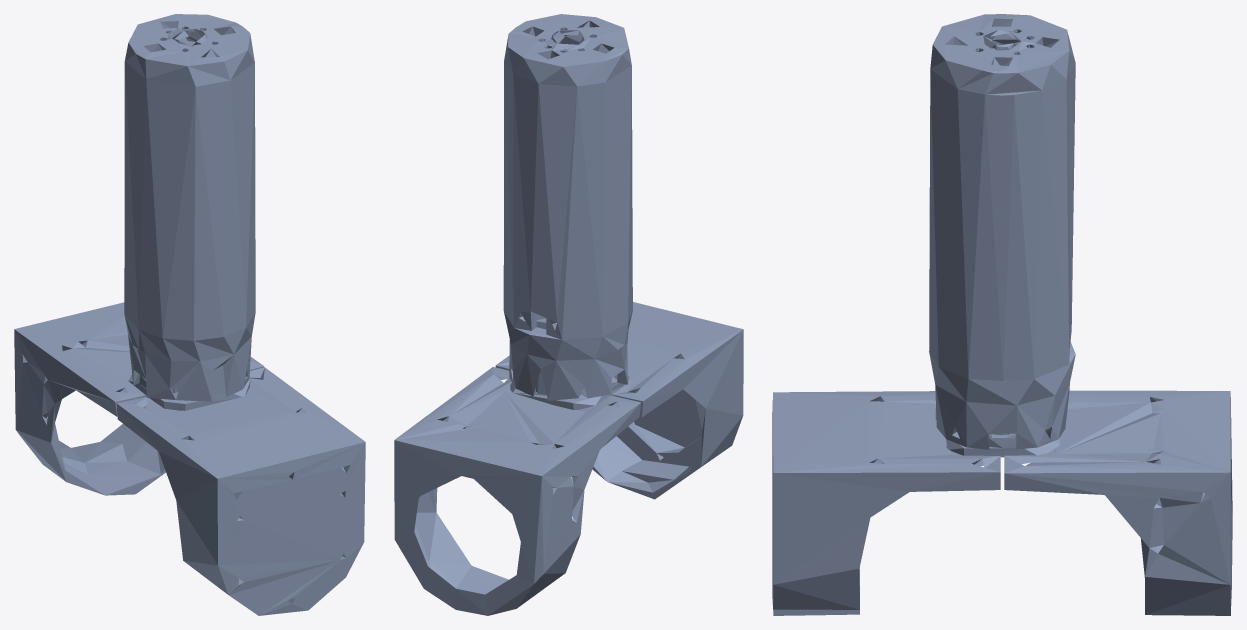
File: r_shoulder_scapula.dae
3 views of the same model, side by side, from view 1: azimuth 30°, elevation 25°; view 2: azimuth 150°, elevation 25°; view 3: azimuth 270°, elevation 25° (orthographic). The views are drawn at different scales.
Visible parts, largest first — view 1: M0R; view 2: M0R; view 3: M0R.
Boxes of the visible parts, x1,y1,x2,y2 form: M0R: (14,14,365,615); M0R: (394,14,743,615); M0R: (772,14,1232,615).
Bounding box in the file's own units: 0.0561 × 0.131 × 0.1796.
